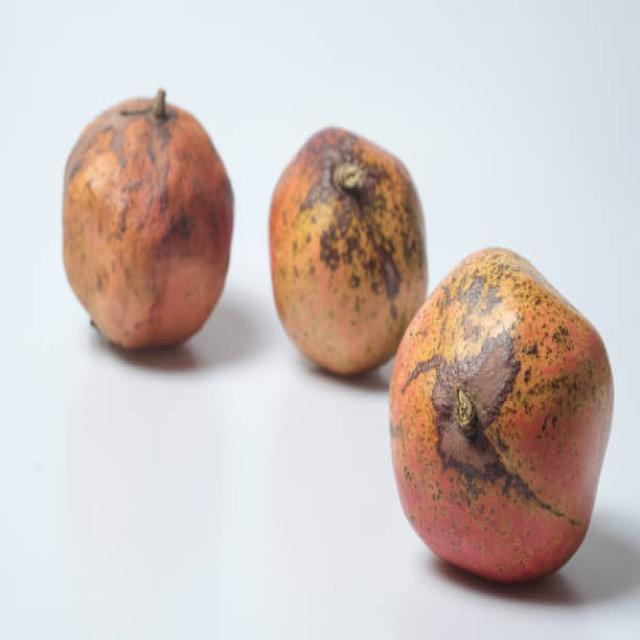overripe: (386, 244, 617, 591), (60, 80, 237, 361), (267, 124, 432, 376)
